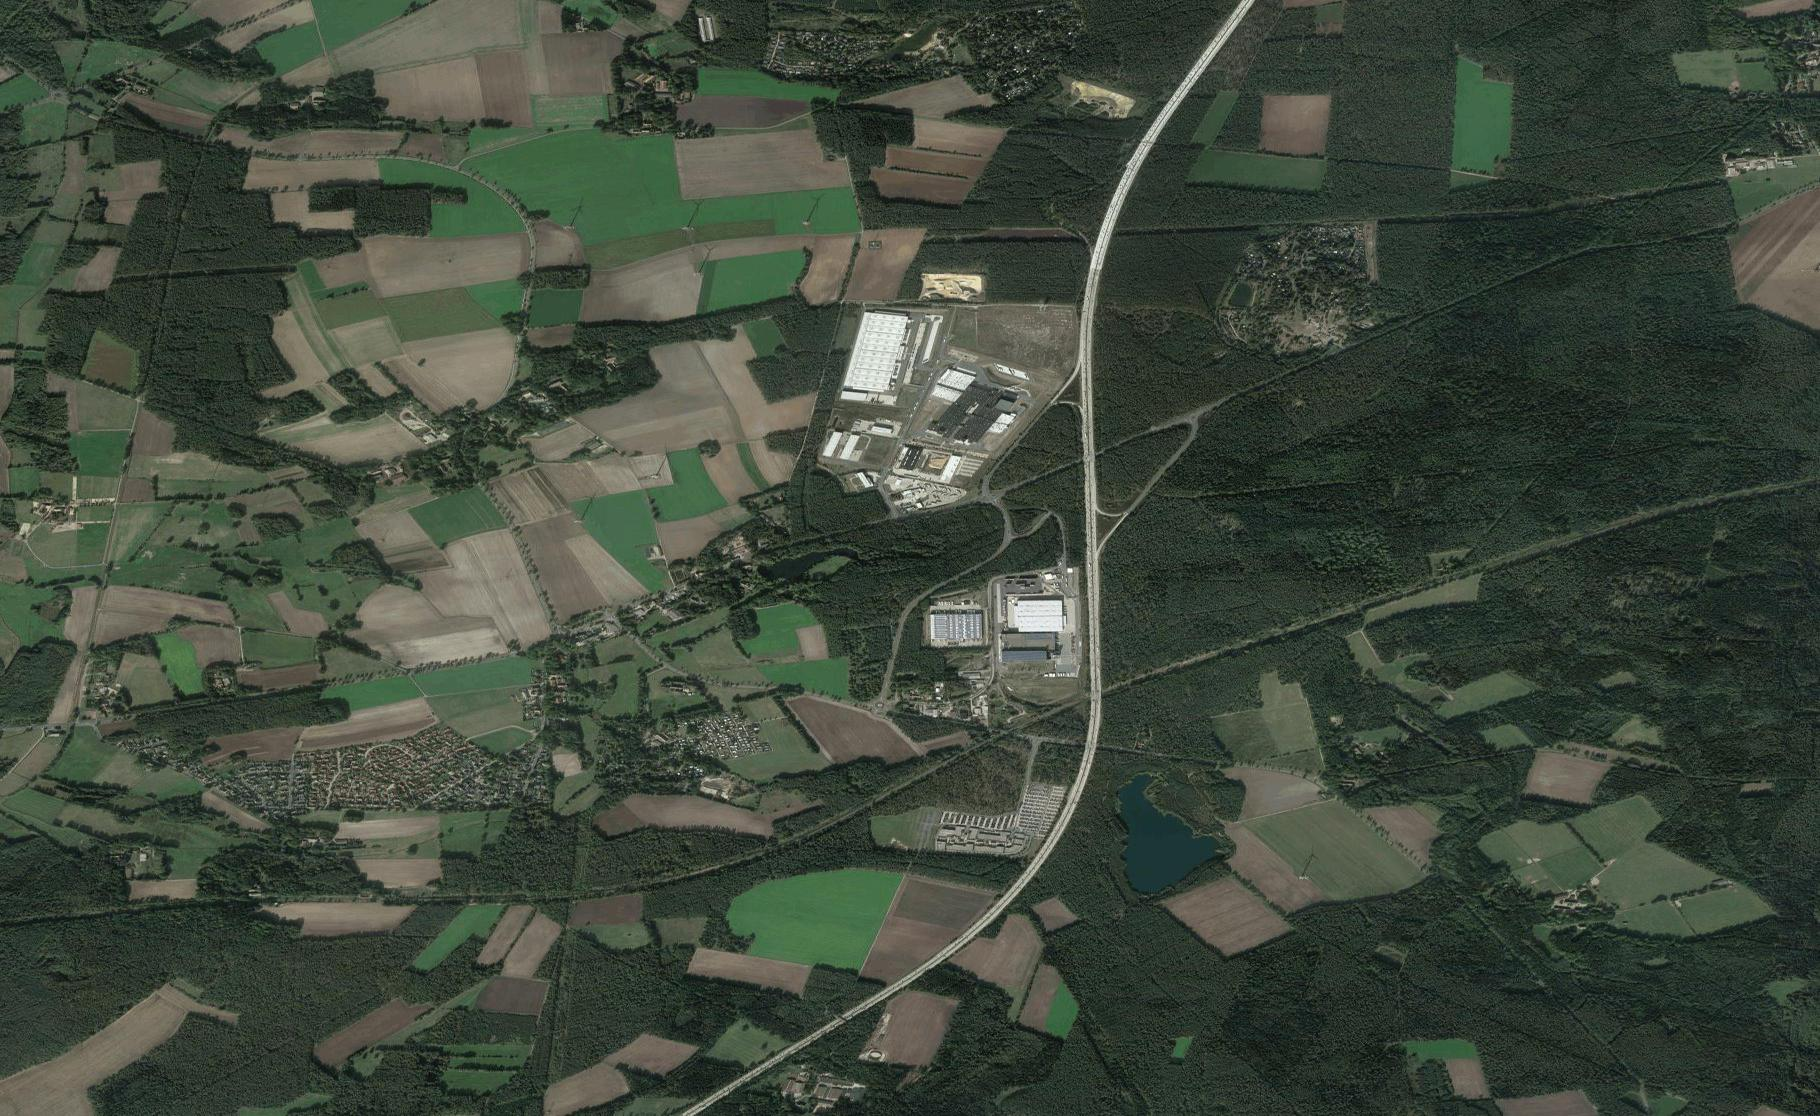industrial: (829, 293, 1045, 497), (929, 565, 1076, 684)
motorway: (976, 773, 1092, 922), (825, 923, 979, 1030), (673, 1026, 820, 1116), (1085, 118, 1163, 273), (1160, 1, 1251, 127), (1076, 522, 1109, 773), (1072, 273, 1104, 524)
